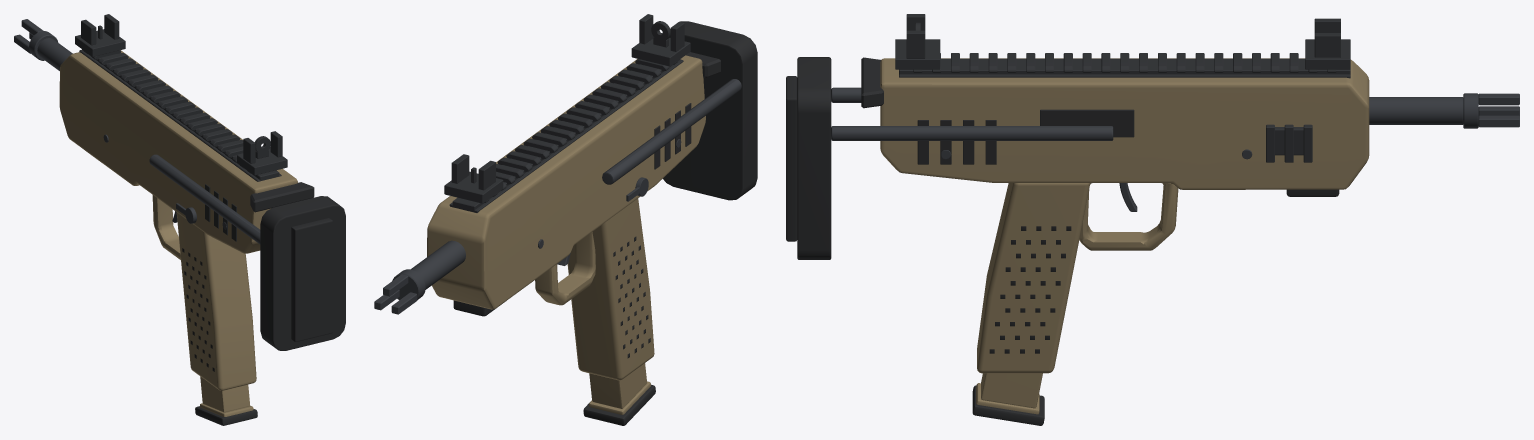
Rendered from wpn_wasp_pdw.glb.
3 renders of one model, left to right at view 1: azimuth 30°, elevation 25°; view 2: azimuth 150°, elevation 25°; view 3: azimuth 270°, elevation 25°, orthographic. The views are drawn at different scales.
Visible parts, largest first — view 1: Body, Stock, Grip, BodyRail, IronSights, Magazine, ChargingHandle, BodyDetails, FlashHider, Barrel, MagazinePad, GripTexture; view 2: Body, Stock, Grip, BodyRail, IronSights, Magazine, FlashHider, Barrel, BodyDetails, MagazinePad, GripTexture, ChargingHandle; view 3: Body, Grip, Stock, BodyRail, IronSights, BodyDetails, Barrel, Magazine, FlashHider, GripTexture, ChargingHandle, MagazinePad.
Part boxes in pixels (x1=…): Body: x1=59, y1=50, x2=297, y2=259; Stock: x1=149, y1=154, x2=345, y2=350; Grip: x1=176, y1=212, x2=256, y2=390; BodyRail: x1=79, y1=49, x2=281, y2=181; IronSights: x1=75, y1=14, x2=287, y2=175; Magazine: x1=200, y1=376, x2=253, y2=416; ChargingHandle: x1=250, y1=182, x2=314, y2=212; BodyDetails: x1=103, y1=134, x2=236, y2=241; FlashHider: x1=14, y1=19, x2=58, y2=60; Barrel: x1=37, y1=38, x2=72, y2=70; MagazinePad: x1=195, y1=406, x2=257, y2=425; GripTexture: x1=182, y1=248, x2=214, y2=371; Body: x1=427, y1=55, x2=705, y2=309; Stock: x1=602, y1=21, x2=757, y2=200; Grip: x1=567, y1=198, x2=654, y2=380; BodyRail: x1=449, y1=59, x2=683, y2=212; IronSights: x1=444, y1=14, x2=690, y2=203; Magazine: x1=589, y1=363, x2=650, y2=414; FlashHider: x1=374, y1=269, x2=425, y2=314; Barrel: x1=410, y1=240, x2=465, y2=289; BodyDetails: x1=538, y1=103, x2=691, y2=248; MagazinePad: x1=583, y1=384, x2=655, y2=425; GripTexture: x1=613, y1=236, x2=650, y2=358; ChargingHandle: x1=686, y1=52, x2=720, y2=77; Body: x1=880, y1=58, x2=1369, y2=250; Grip: x1=977, y1=183, x2=1090, y2=373; Stock: x1=786, y1=57, x2=1113, y2=259; BodyRail: x1=899, y1=53, x2=1350, y2=162; IronSights: x1=895, y1=14, x2=1350, y2=69; BodyDetails: x1=917, y1=109, x2=1252, y2=164; Barrel: x1=1369, y1=97, x2=1463, y2=124; Magazine: x1=976, y1=373, x2=1042, y2=414; FlashHider: x1=1463, y1=93, x2=1519, y2=128; GripTexture: x1=989, y1=226, x2=1071, y2=353; ChargingHandle: x1=861, y1=57, x2=883, y2=108; MagazinePad: x1=972, y1=385, x2=1044, y2=425.
Size of the model in its own units: 0.057 by 0.23 by 0.39.
